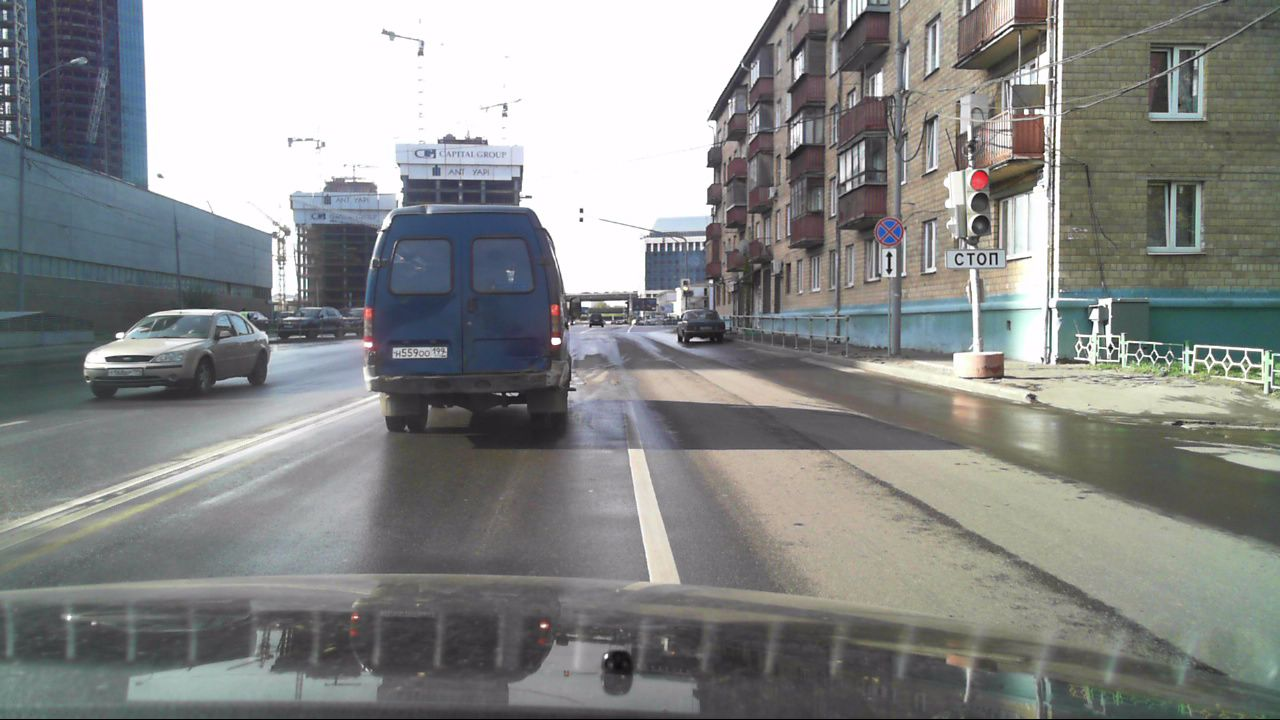No Parking: (874, 215, 903, 246)
